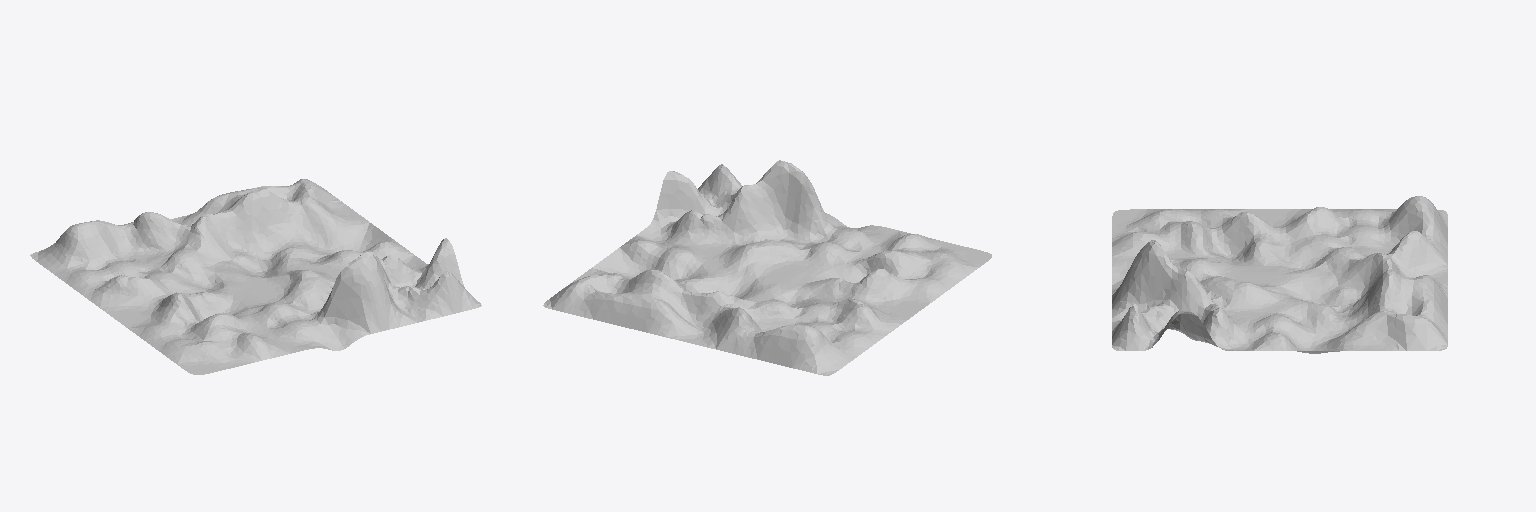
File: mountain2.obj
3 renders of one model, left to right at view 1: azimuth 30°, elevation 25°; view 2: azimuth 150°, elevation 25°; view 3: azimuth 270°, elevation 25°, orthographic.
Visible parts, largest first — view 1: 平面; view 2: 平面; view 3: 平面.
Part boxes in pixels (left/top/right/bottom): 平面: left=30, top=179, right=481, bottom=374; 平面: left=543, top=160, right=991, bottom=375; 平面: left=1112, top=196, right=1447, bottom=353.
Bounding box in the file's own units: 20.02 × 4.98 × 20.